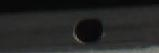holes: (73, 17, 104, 43)
